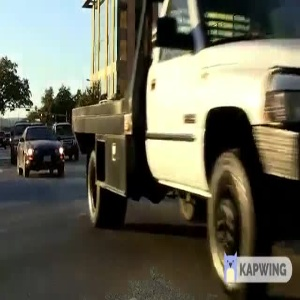car: (12, 122, 66, 186)
truck: (60, 1, 300, 284)
